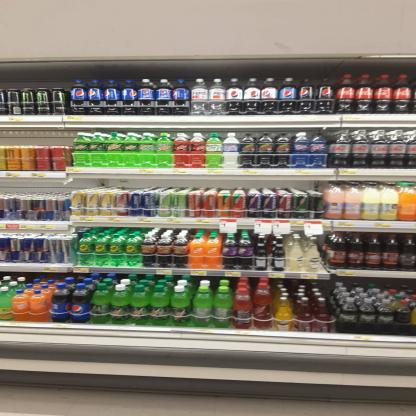Void: (0, 126, 70, 144), (1, 180, 72, 192)
